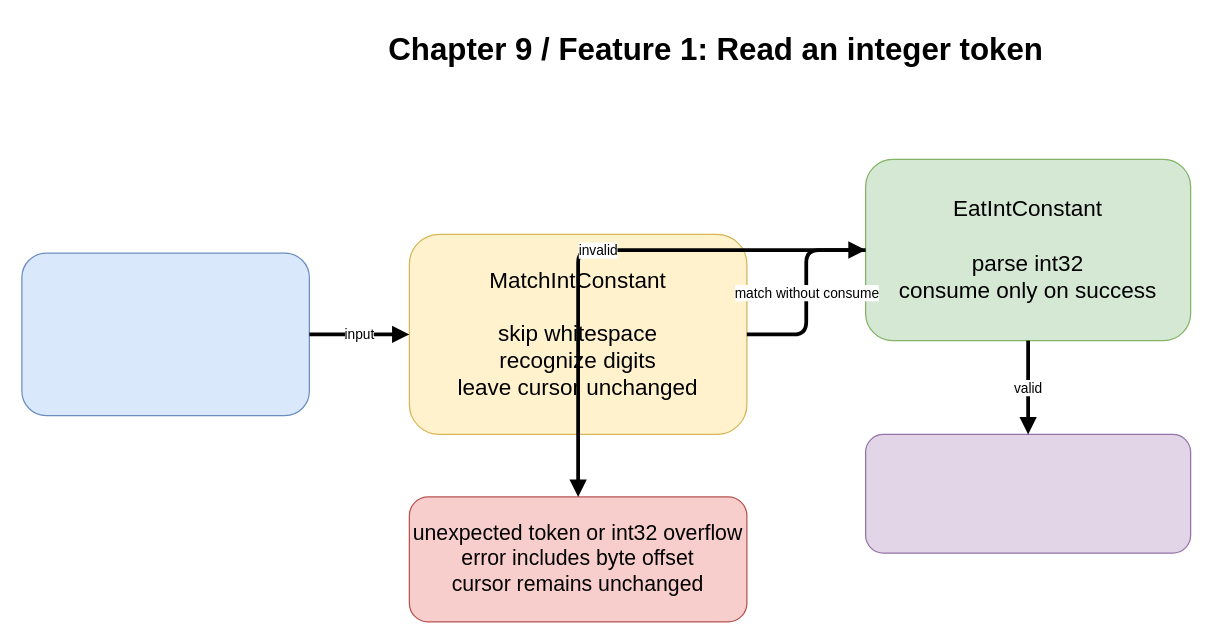
This 1225x644 diagram has some shape labels left out. Each missing label, with the centre of its shape:
"SQL input \t 123 name" belongs at [165,334].
"value = 123 next input = name" belongs at [1027,493].
